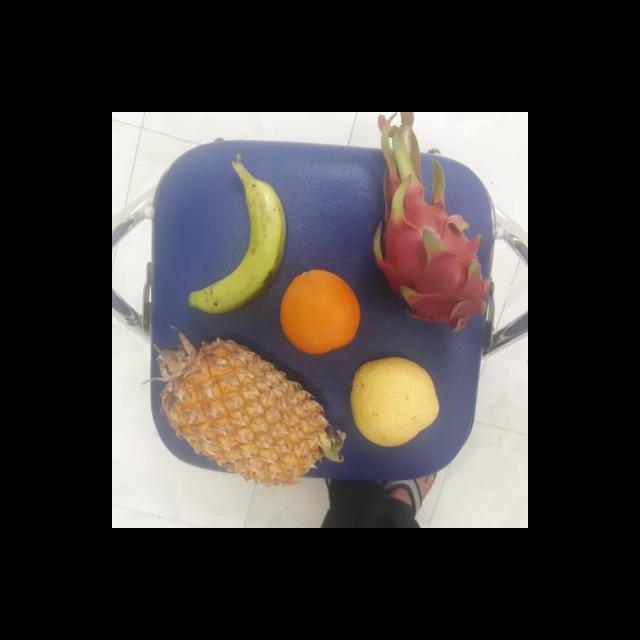banana: (193, 169, 285, 314)
orange: (278, 270, 362, 354)
pear: (344, 358, 443, 448)
pineapple: (148, 338, 335, 488)
pitaya: (363, 158, 492, 332)
